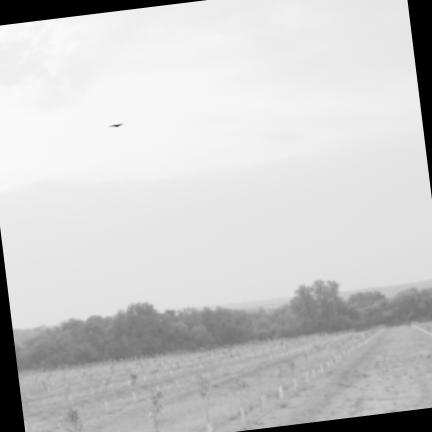Shahed: (108, 122, 124, 127)
